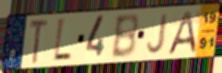4: (85, 13, 108, 62)
A: (166, 9, 198, 56)
B: (109, 12, 140, 60)
J: (145, 12, 170, 56)
L: (51, 16, 73, 64)
T: (28, 18, 50, 65)
